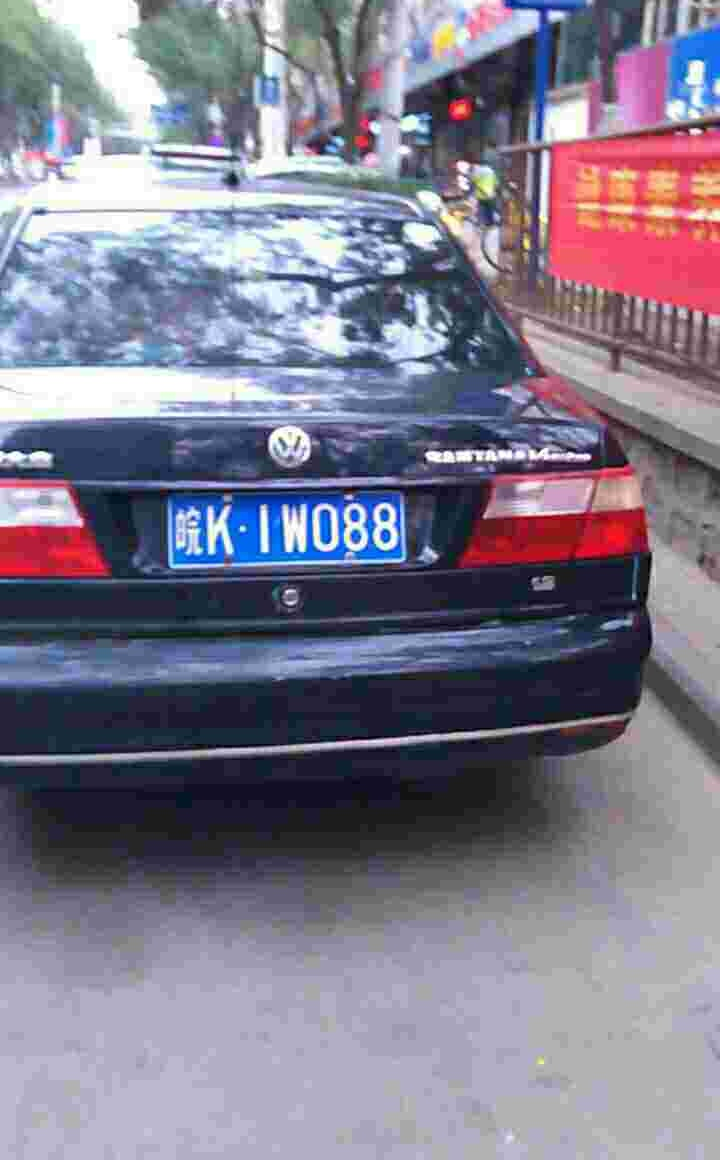plate: (172, 487, 410, 570)
